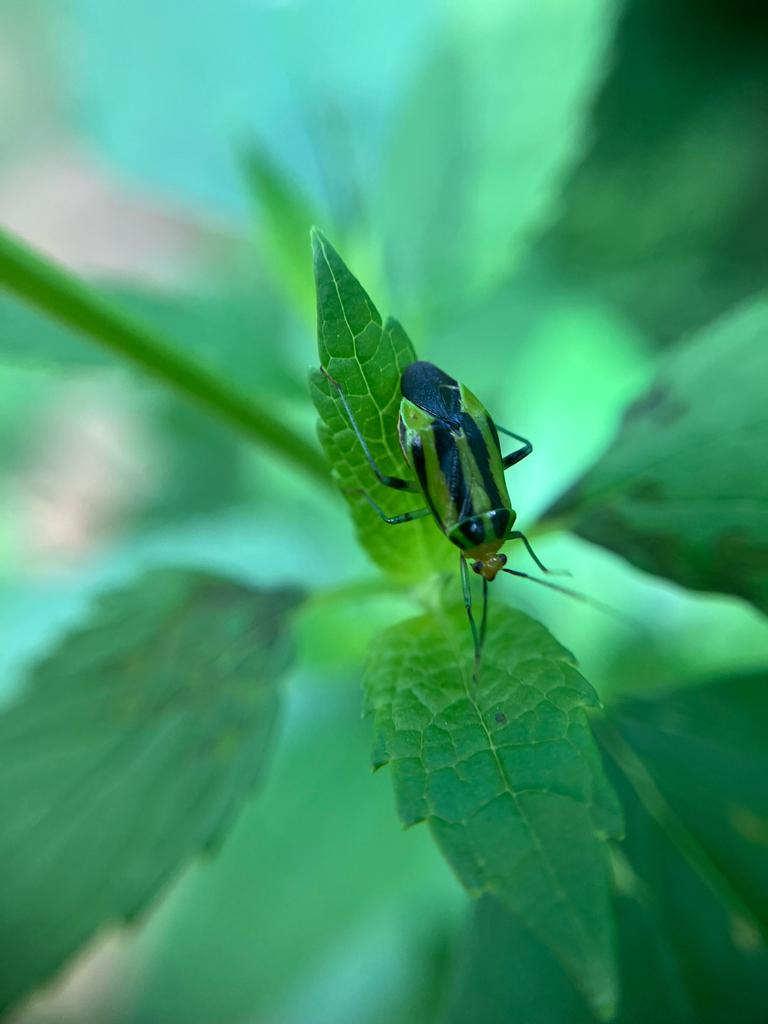plant_bugs: (304, 319, 636, 717)
